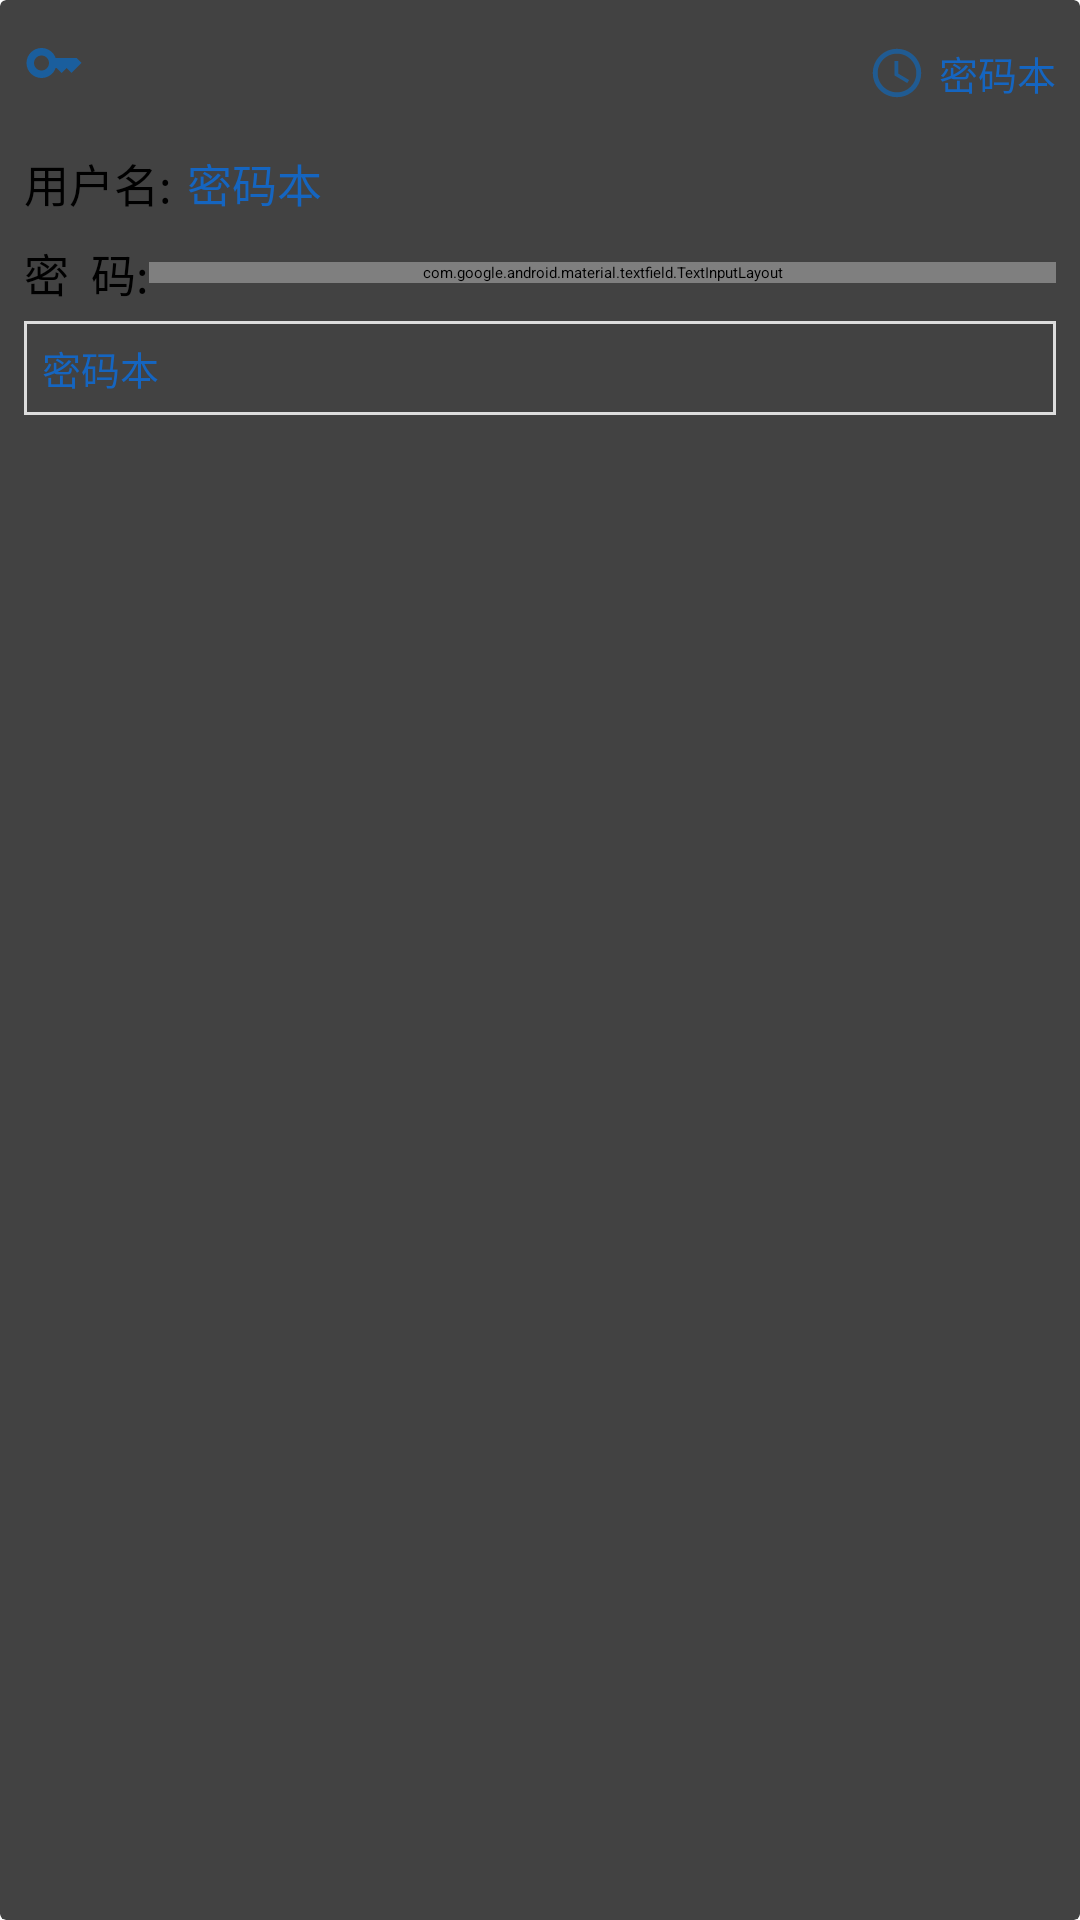

Locate icon controls on the screen. Image size 1080*1920, boxes as bbox(x1, y1, x2, y2).
access time: bbox(873, 49, 921, 97)
key: bbox(26, 48, 81, 78)
